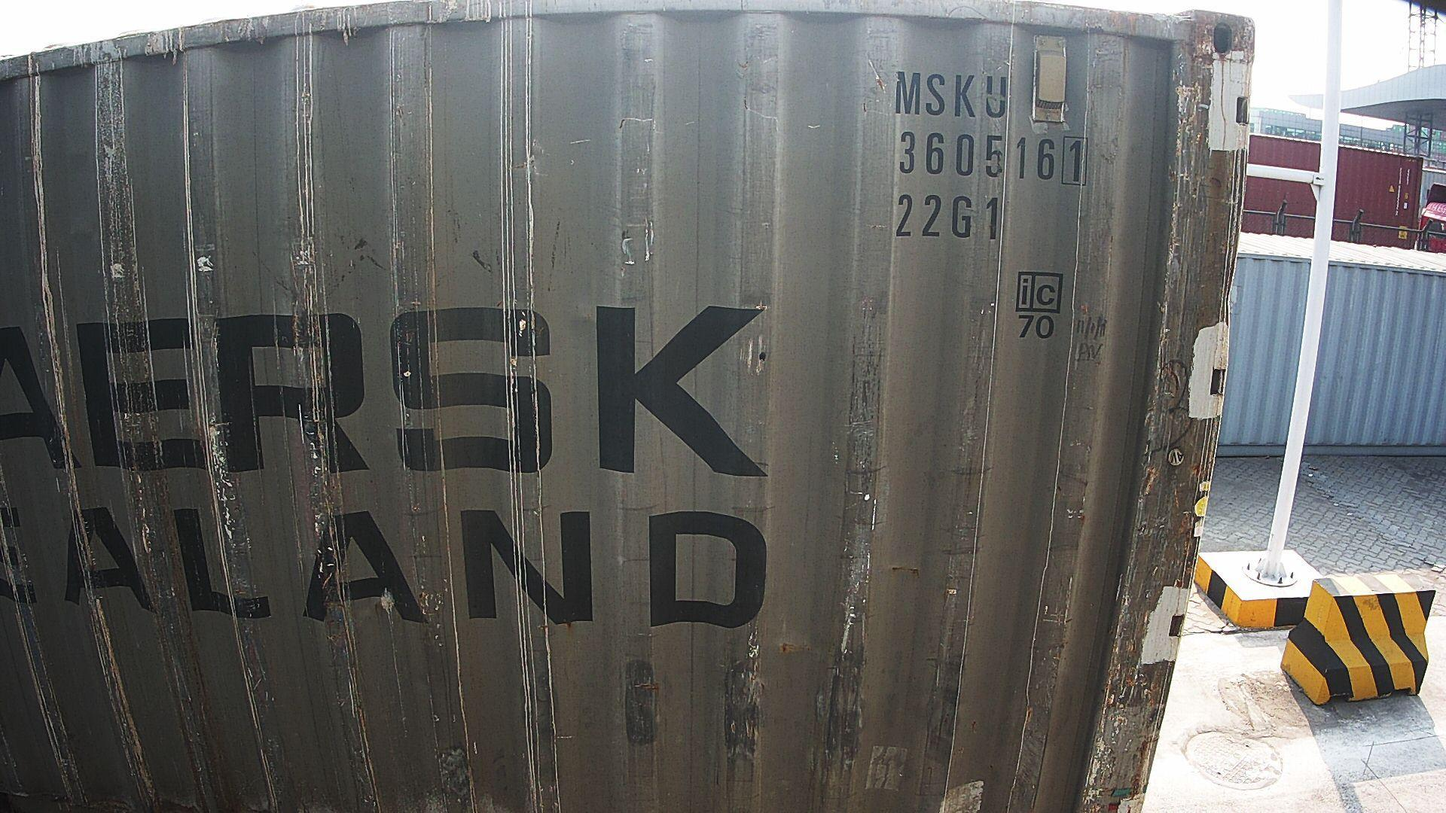container-numbers: (895, 129, 1092, 189), (892, 69, 1012, 123), (895, 191, 1006, 245)
